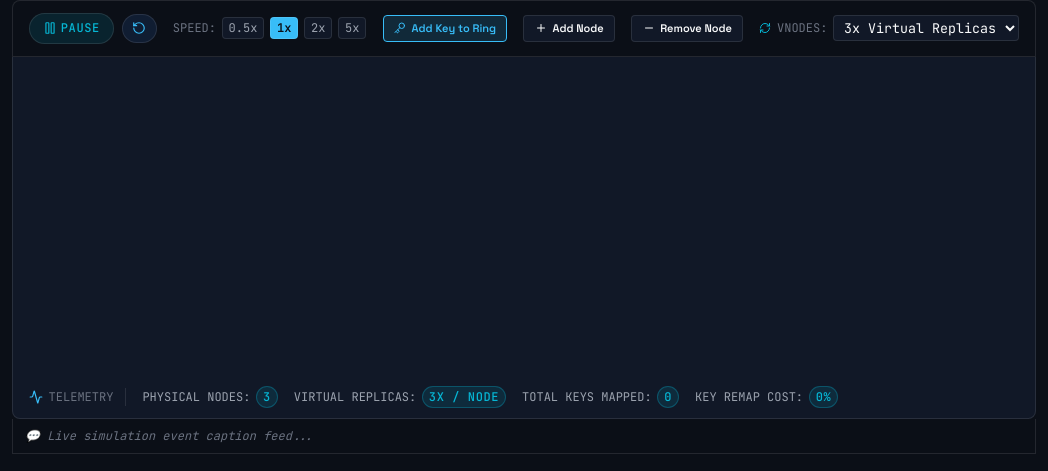
it: ConsistentHashingVisualizer (Bonus Viz #1) › handles Add Key button click
Click the button "Add Key to Ring": click(445, 28) [383,15,507,42]
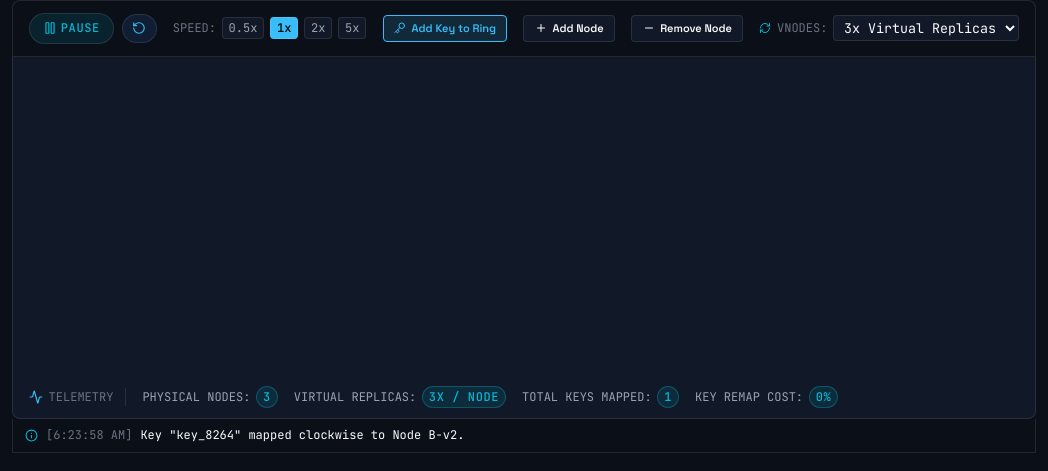
Now the text "Key \"key_8264\" mapped clockwise to Node B-v2." is shown, box [140,427,464,444]
